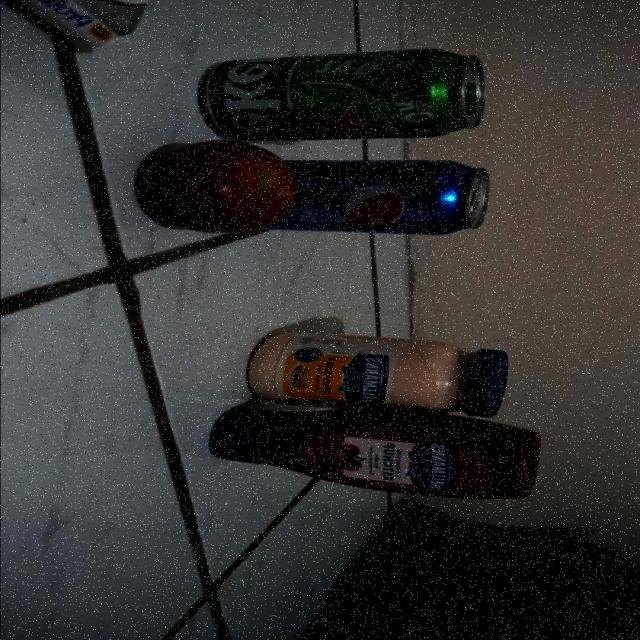Apple: (135, 139, 299, 233)
BeerCan: (190, 48, 487, 142)
Ketchup: (207, 407, 540, 499)
Mayonnaise: (245, 332, 510, 418)
Soap: (0, 0, 156, 49)
SodaCan: (236, 158, 489, 234)
